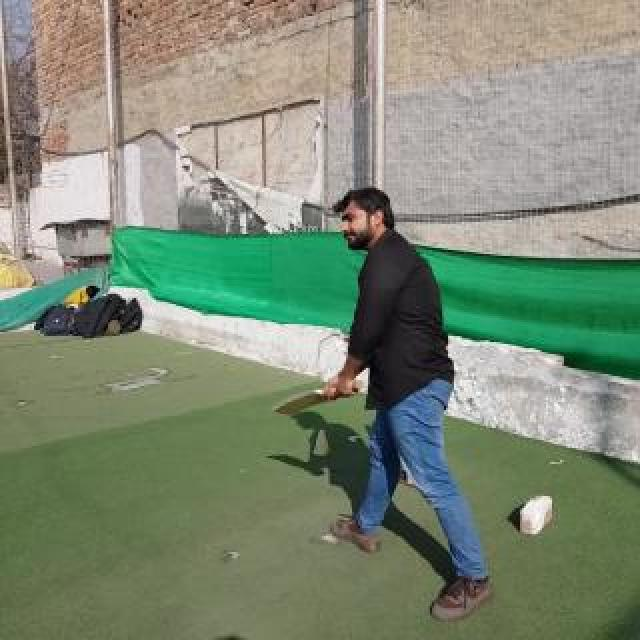bat: (273, 380, 363, 414)
